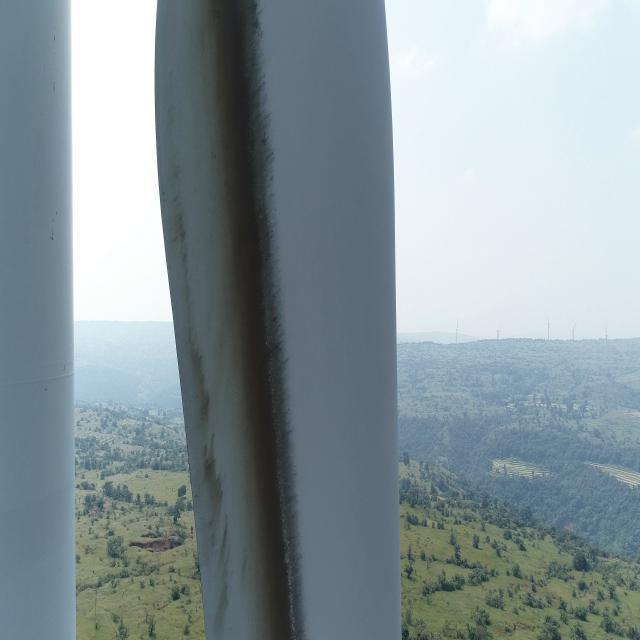Dirt: (152, 0, 321, 640)
